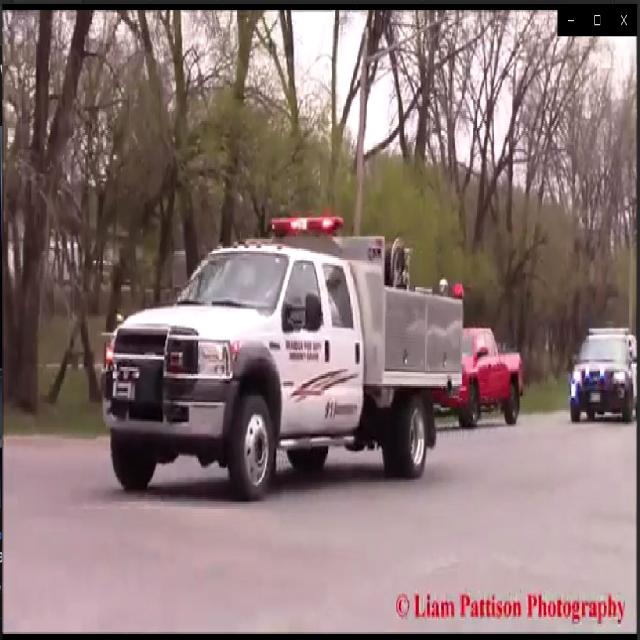emergency: (103, 211, 463, 498), (568, 326, 636, 432)
